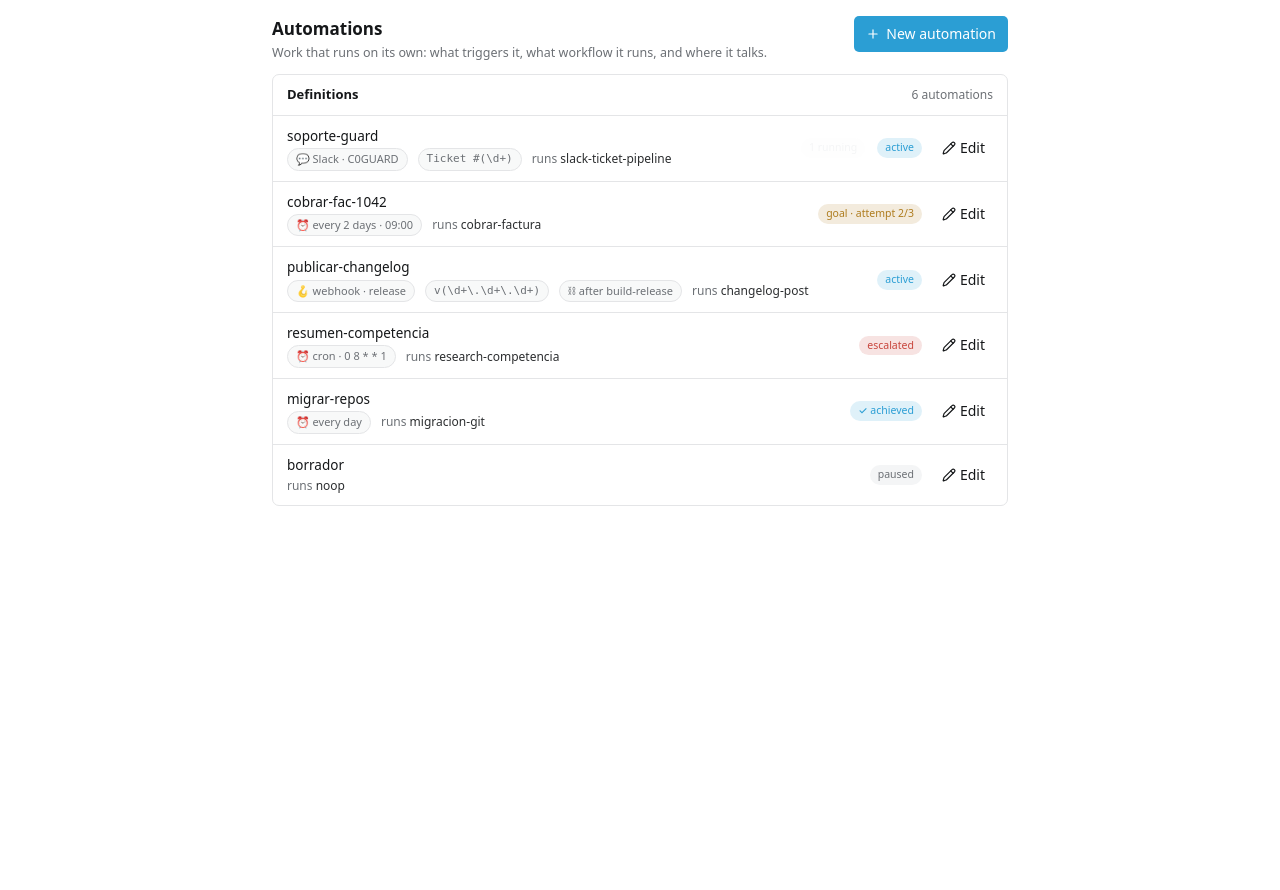
it: AutomationsView › Editar on a row opens the form prefilled with that automation's own definition
The image size is (1280, 890).
Click the button "Edit" next to "goal · attempt 2/3". click: (963, 214)
box: top-left (934, 200), bottom-right (993, 228)
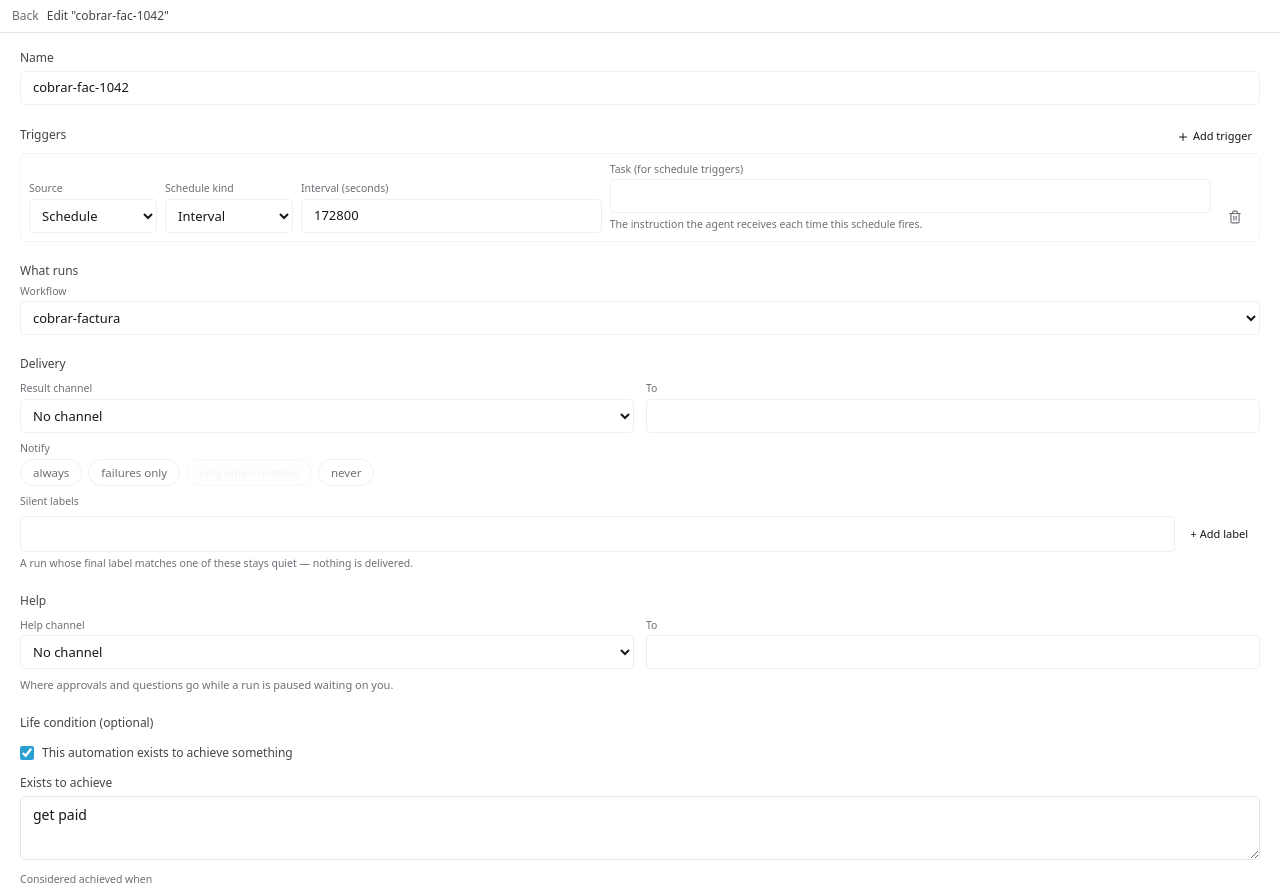
Result: the field labelled "Name" holds "cobrar-fac-1042" at top-left (20, 71), bottom-right (1260, 104)
Result: the dropdown labelled "Workflow" shows "cobrar-factura" at top-left (20, 301), bottom-right (1260, 335)
